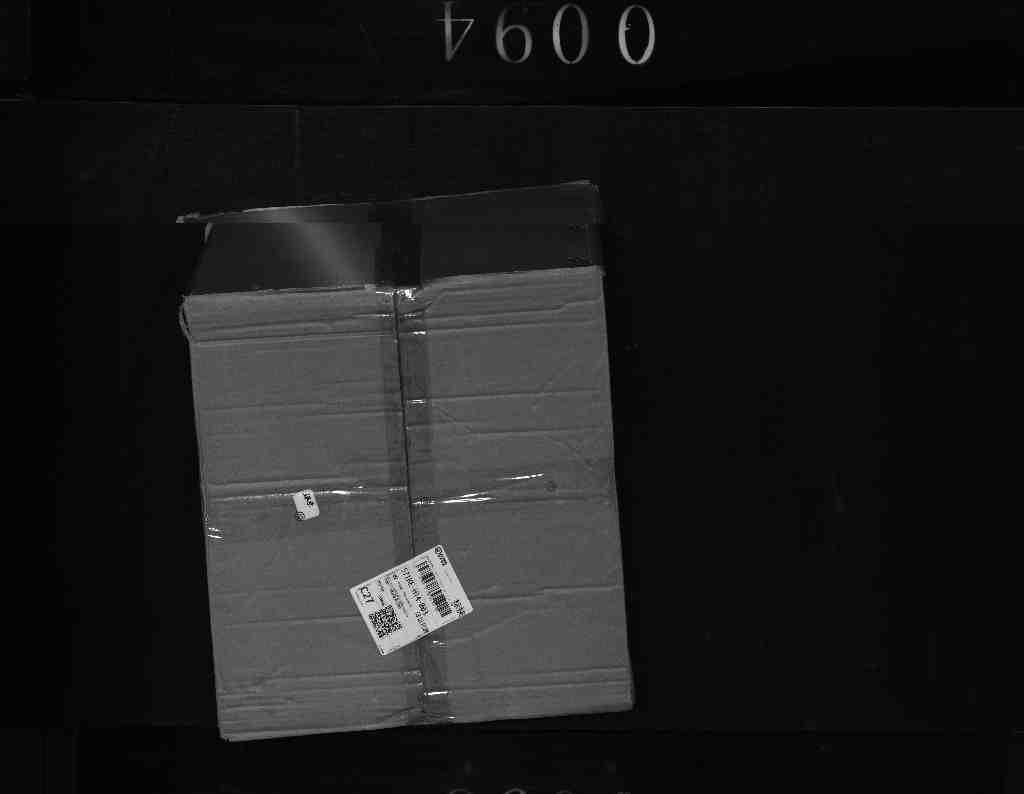box: (145, 192, 657, 751)
